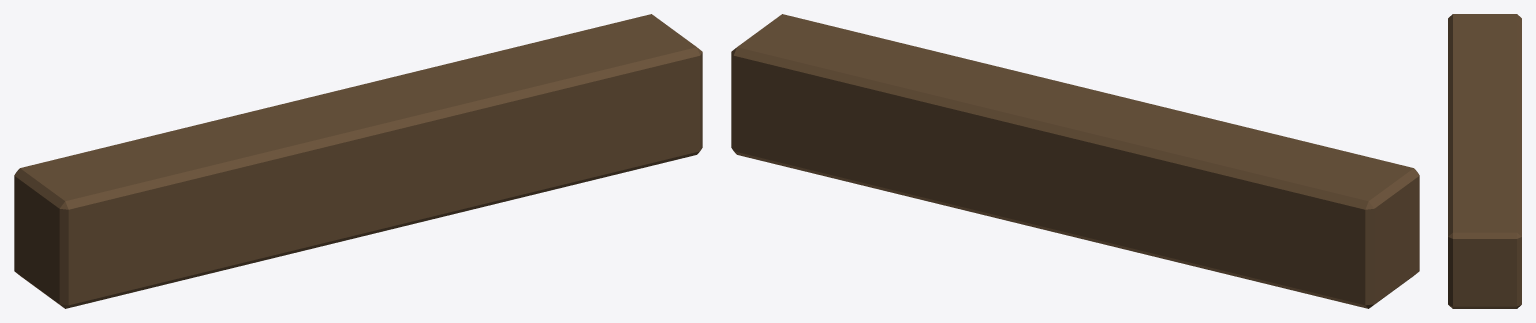
Rendered from SM_WL_EaveTrim1m.fbx.
3 renders of one model, left to right at view 1: azimuth 30°, elevation 25°; view 2: azimuth 150°, elevation 25°; view 3: azimuth 270°, elevation 25°, orthographic. The views are drawn at different scales.
Visible parts, largest first — view 1: SM_WL_EaveTrim1m; view 2: SM_WL_EaveTrim1m; view 3: SM_WL_EaveTrim1m.
Part boxes in pixels (box(x1,y1,x2,y2)): SM_WL_EaveTrim1m: box(14, 14, 702, 308); SM_WL_EaveTrim1m: box(731, 14, 1419, 308); SM_WL_EaveTrim1m: box(1448, 14, 1521, 308).
Size of the model in its own units: 0.14 by 1 by 0.16.
